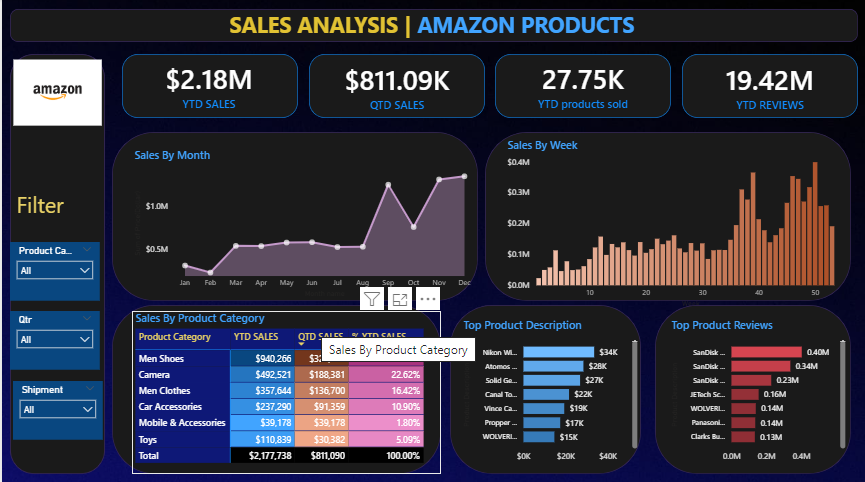

The page's visual inventory and layout, read from the dashboard file:
{"tool":"powerbi","page":{"name":"Page 1","canvas":[1280,720],"ordinal":0},"visuals":[{"type":"shape","box":[11.9,14.8,1256.3,48.9],"z":0},{"type":"textbox","box":[331.9,10.4,614.8,59.3],"z":1000},{"type":"shape","box":[11.9,81.5,140.7,622.2],"z":2000},{"type":"shape","box":[177.8,81.5,260.7,94.8],"z":3000},{"type":"card","fields":{"Values":["Amazon_Data.YTD SALES"]},"box":[176.3,80,260.7,94.8],"z":4000},{"type":"shape","box":[454.3,81.5,260.7,94.8],"z":5000},{"type":"card","fields":{"Values":["Amazon_Data.QTD SALES"]},"box":[454.8,81.5,260.7,94.8],"z":6000},{"type":"shape","box":[1007.4,81.5,260.7,94.8],"z":7000},{"type":"shape","box":[730.9,81.5,260.7,94.8],"z":8000},{"type":"card","fields":{"Values":["Amazon_Data.YTD products sold"]},"box":[730.4,80,260.7,94.8],"z":9000},{"type":"card","fields":{"Values":["Amazon_Data.YTD REVIEWS"]},"box":[1007.4,81.5,260.7,94.8],"z":10000},{"type":"shape","box":[163,197,542.2,250.4],"z":11000},{"type":"areaChart","title":"Sales By Month","fields":{"Category":["Date Table.Month name"],"Y":["Sum(Amazon_Data.Price(Dollar))"]},"box":[191.1,220.7,514.1,226.7],"z":12000},{"type":"shape","box":[715.6,197,542.2,250.4],"z":13000},{"type":"columnChart","title":"Sales By Week","fields":{"Y":["Sum(Amazon_Data.Price(Dollar))"],"Category":["Date Table.Week"]},"box":[743.7,205.9,514.1,256.3],"z":14000},{"type":"shape","box":[163,453.3,487.4,250.4],"z":15000},{"type":"pivotTable","title":"Sales By Product Category","fields":{"Rows":["Amazon_Data.Product Category"],"Values":["Amazon_Data.YTD SALES","Amazon_Data.QTD SALES","Divide(Amazon_Data.YTD SALES, ScopedEval(Amazon_Data.YTD SALES, []))"]},"box":[192.6,462.2,457.8,241.5],"z":16000},{"type":"shape","box":[663.7,453.3,283,250.4],"z":17000},{"type":"shape","box":[967.4,453.3,290.4,250.4],"z":18000},{"type":"clusteredBarChart","title":"Top Product Reviews","fields":{"Category":["Amazon_Data.Product Description"],"Y":["Amazon_Data.YTD REVIEWS"]},"box":[986.7,472.6,268.1,222.2],"z":19000},{"type":"clusteredBarChart","title":"Top Product Description","fields":{"Category":["Amazon_Data.Product Description"],"Y":["Amazon_Data.YTD SALES"]},"box":[678.5,472.6,268.1,222.2],"z":20000},{"type":"slicer","fields":{"Values":["Date Table.Qtr"]},"box":[11.9,462.2,133.3,87.4],"z":21000},{"type":"slicer","fields":{"Values":["Amazon_Data.Product Category"]},"box":[11.9,360,133.3,87.4],"z":22000},{"type":"image","box":[11.9,29.6,140.7,217.8],"z":23000},{"type":"slicer","fields":{"Values":["Amazon_Data.Shipment"]},"box":[16.3,565.9,133.3,87.4],"z":24000},{"type":"textbox","box":[16.3,277,145.2,69.6],"z":25000}]}

Visuals, with their boxes in screenshot pixels (x1, y1, x2, y2), scaled from the page's 1280x720 canvas onto the 865x482 screenshot:
shape: {"x1": 8, "y1": 10, "x2": 857, "y2": 43}
textbox: {"x1": 224, "y1": 7, "x2": 640, "y2": 47}
shape: {"x1": 8, "y1": 55, "x2": 103, "y2": 471}
shape: {"x1": 120, "y1": 55, "x2": 296, "y2": 118}
card - Amazon_Data.YTD SALES: {"x1": 119, "y1": 54, "x2": 295, "y2": 117}
shape: {"x1": 307, "y1": 55, "x2": 483, "y2": 118}
card - Amazon_Data.QTD SALES: {"x1": 307, "y1": 55, "x2": 484, "y2": 118}
shape: {"x1": 681, "y1": 55, "x2": 857, "y2": 118}
shape: {"x1": 494, "y1": 55, "x2": 670, "y2": 118}
card - Amazon_Data.YTD products sold: {"x1": 494, "y1": 54, "x2": 670, "y2": 117}
card - Amazon_Data.YTD REVIEWS: {"x1": 681, "y1": 55, "x2": 857, "y2": 118}
shape: {"x1": 110, "y1": 132, "x2": 477, "y2": 300}
"Sales By Month" areaChart: {"x1": 129, "y1": 148, "x2": 477, "y2": 300}
shape: {"x1": 484, "y1": 132, "x2": 850, "y2": 300}
"Sales By Week" columnChart: {"x1": 503, "y1": 138, "x2": 850, "y2": 309}
shape: {"x1": 110, "y1": 303, "x2": 440, "y2": 471}
"Sales By Product Category" pivotTable: {"x1": 130, "y1": 309, "x2": 440, "y2": 471}
shape: {"x1": 449, "y1": 303, "x2": 640, "y2": 471}
shape: {"x1": 654, "y1": 303, "x2": 850, "y2": 471}
"Top Product Reviews" clusteredBarChart: {"x1": 667, "y1": 316, "x2": 848, "y2": 465}
"Top Product Description" clusteredBarChart: {"x1": 459, "y1": 316, "x2": 640, "y2": 465}
slicer - Date Table.Qtr: {"x1": 8, "y1": 309, "x2": 98, "y2": 368}
slicer - Amazon_Data.Product Category: {"x1": 8, "y1": 241, "x2": 98, "y2": 300}
image: {"x1": 8, "y1": 20, "x2": 103, "y2": 166}
slicer - Amazon_Data.Shipment: {"x1": 11, "y1": 379, "x2": 101, "y2": 437}
textbox: {"x1": 11, "y1": 185, "x2": 109, "y2": 232}
